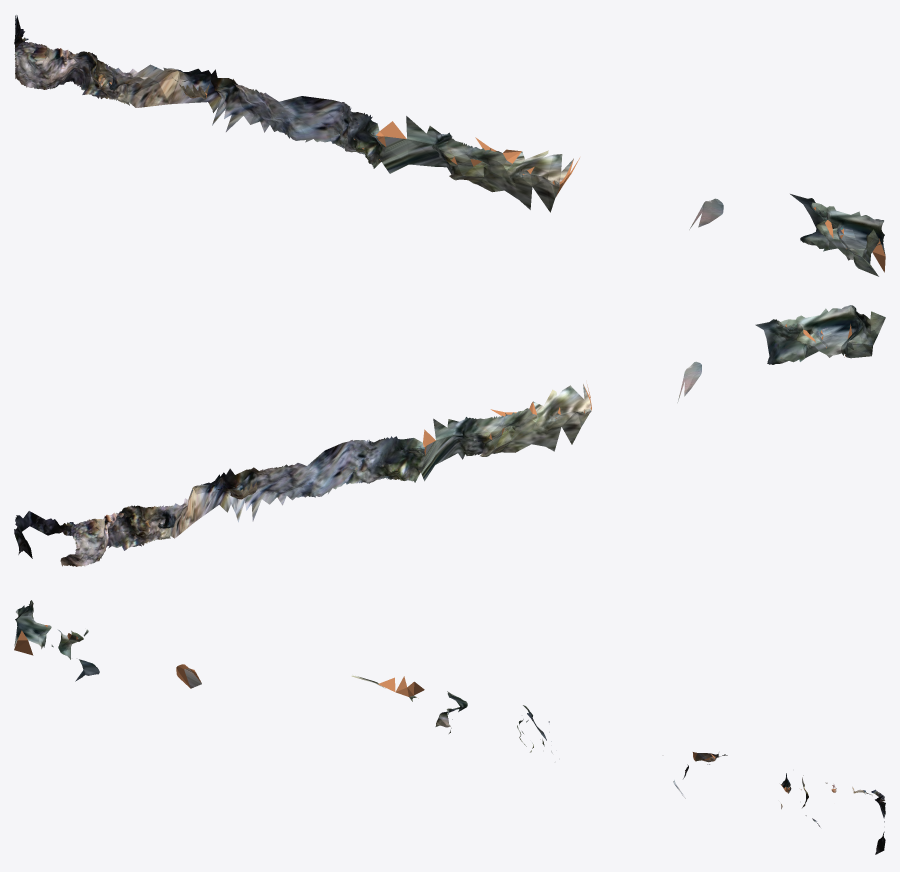
Rendered from tile_0191.gltf.
3 renders of one model, top to bottom at view 1: azimuth 90°, elevation 25°; view 2: azimuth 150°, elevation 25°; view 3: azimuth 270°, elevation 25°, orthographic. The views are drawn at different scales.
Parts seen in each view (by area): view 1: defaultobject; view 2: defaultobject; view 3: defaultobject.
Boxes of the visible parts, x1,y1,x2,y2 form: defaultobject: (14,15,885,276); defaultobject: (14,305,885,566); defaultobject: (14,600,885,854).
Size of the model in its own units: 4.04 by 0.5748 by 6.61.
Materials: 1 (1 with a texture image).
